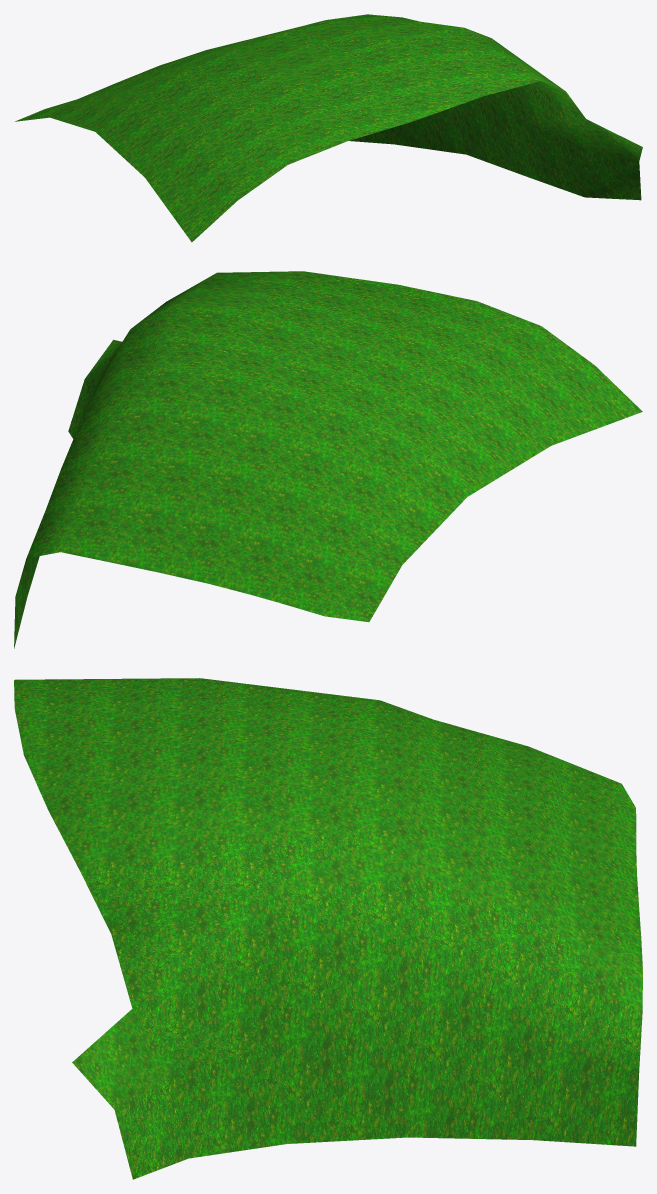
The model's file is HTOWN01_PS08.fbx.
The picture shows the model from 3 angles, top to bottom: view 1: azimuth 30°, elevation 25°; view 2: azimuth 150°, elevation 25°; view 3: azimuth 270°, elevation 25°; orthographic projection. The views are drawn at different scales.
Parts seen in each view (by area): view 1: HTOWN01_PS08; view 2: HTOWN01_PS08; view 3: HTOWN01_PS08.
Part boxes in pixels (bbox=[...]): HTOWN01_PS08: bbox=[15, 14, 642, 242]; HTOWN01_PS08: bbox=[14, 271, 642, 648]; HTOWN01_PS08: bbox=[14, 678, 642, 1179].
Bounding box in the file's own units: 255098 × 111617 × 201871.
2 materials, 2 textured.
